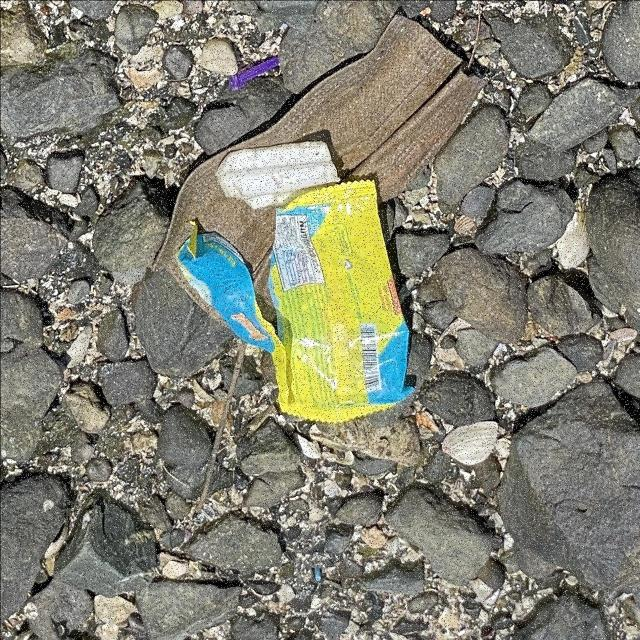plastic_waste: (176, 173, 417, 428)
